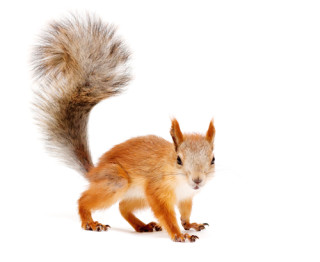Ardilla: (63, 118, 230, 243)
